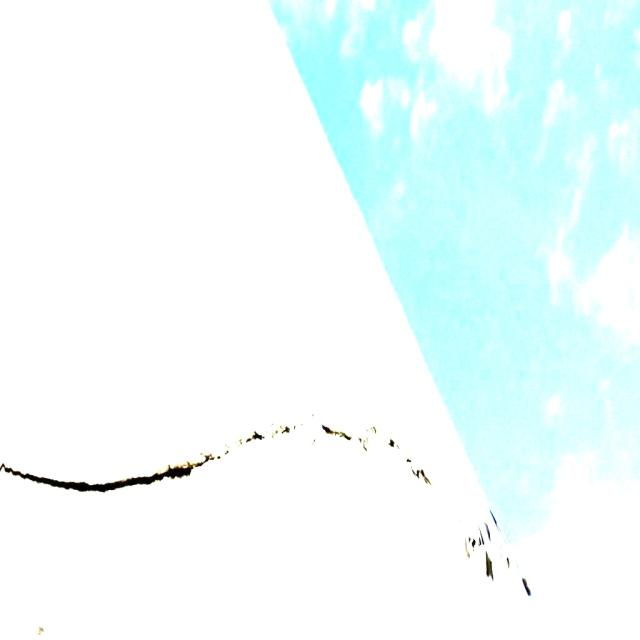crack: (8, 412, 528, 582)
